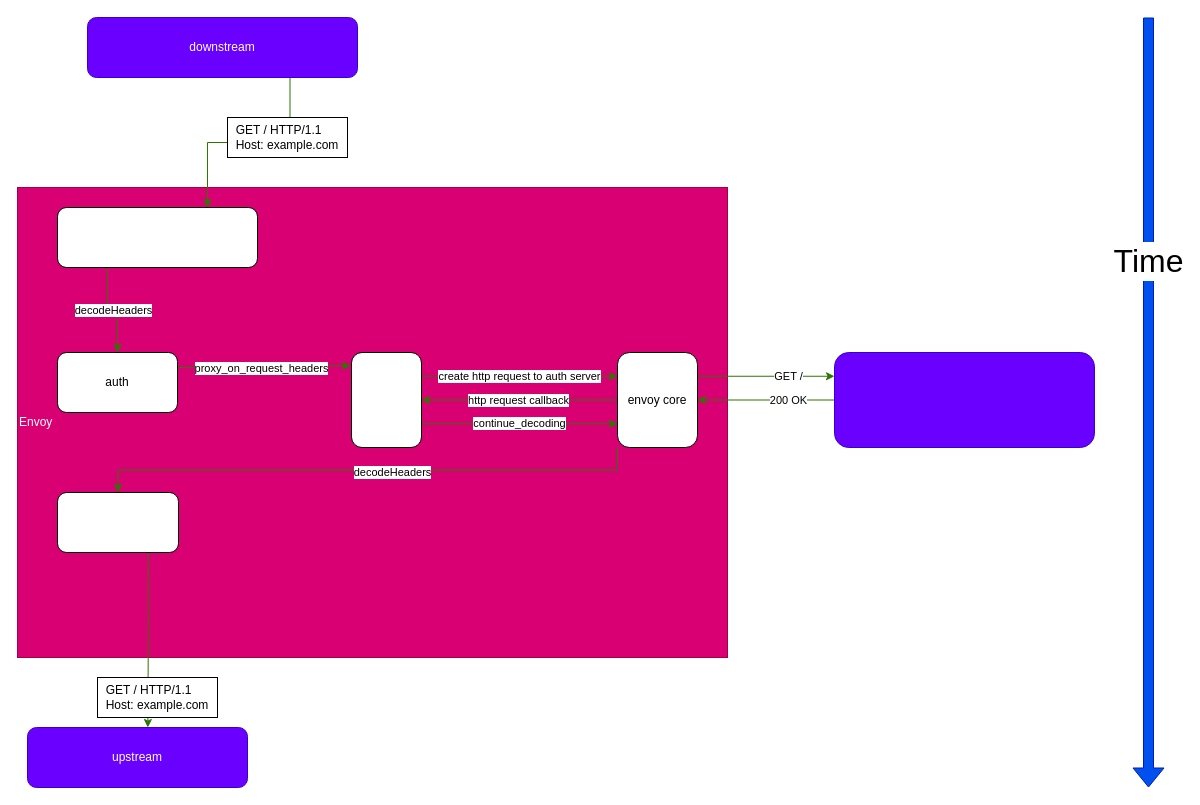
Some shapes in this 1200 by 805 pixel diagram are drawn without their labels. Here are the shapes that lost their labels. From the top down, the centre of each, then its label:
the point at 157,237: Http Connection Manager
the point at 386,400: auth wasm
the point at 964,400: Auth Server
the point at 117,522: router
